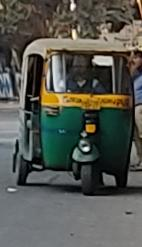Auto: (13, 34, 137, 201)
